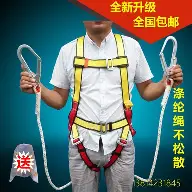safety belt: (64, 35, 140, 172)
